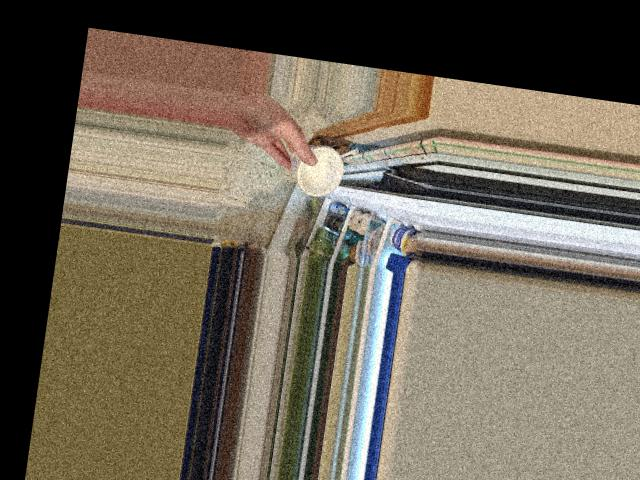cotage: (283, 139, 353, 197)
